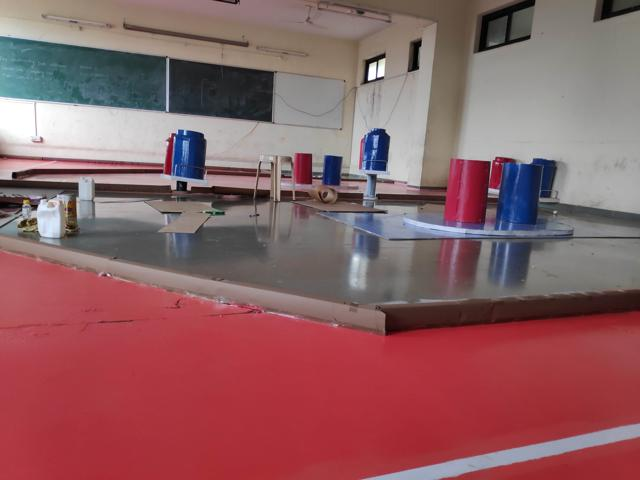Blue: (498, 165, 544, 222), (174, 131, 207, 178), (361, 127, 390, 170), (322, 156, 342, 185)
Red: (445, 160, 487, 221), (293, 153, 311, 184), (490, 157, 502, 190), (165, 133, 173, 172)
